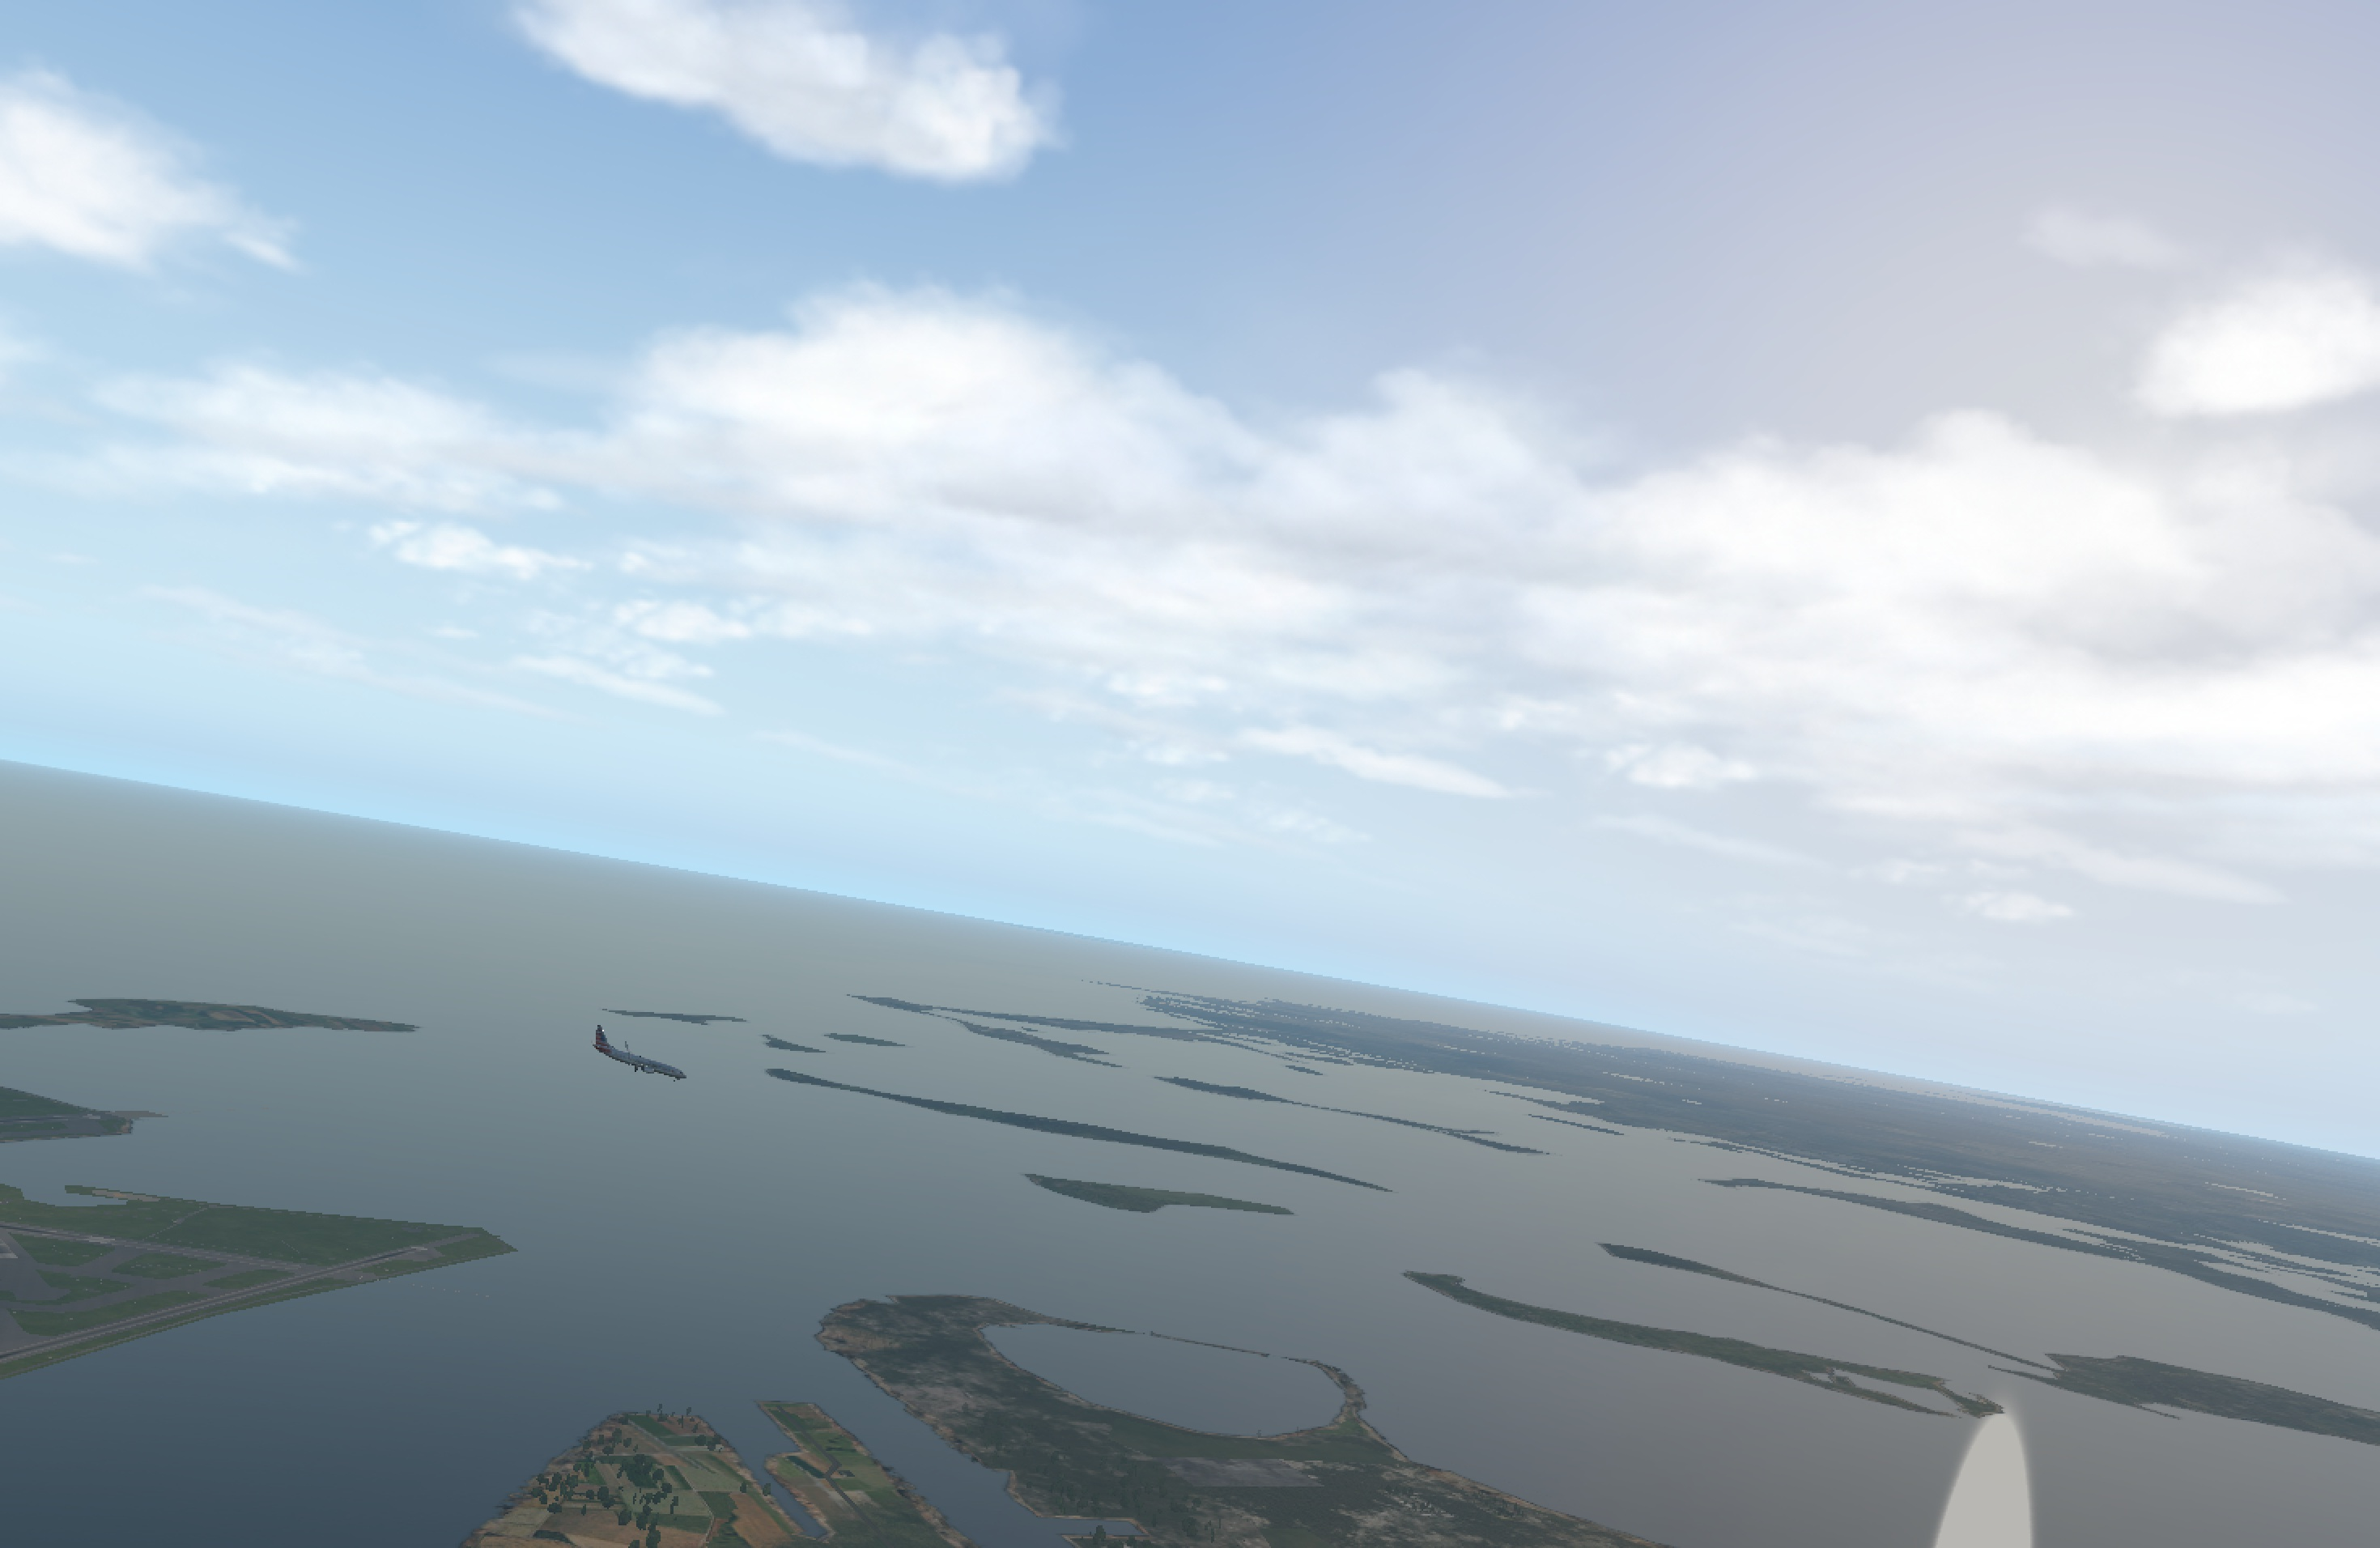aircraft: (593, 1046, 690, 1083)
